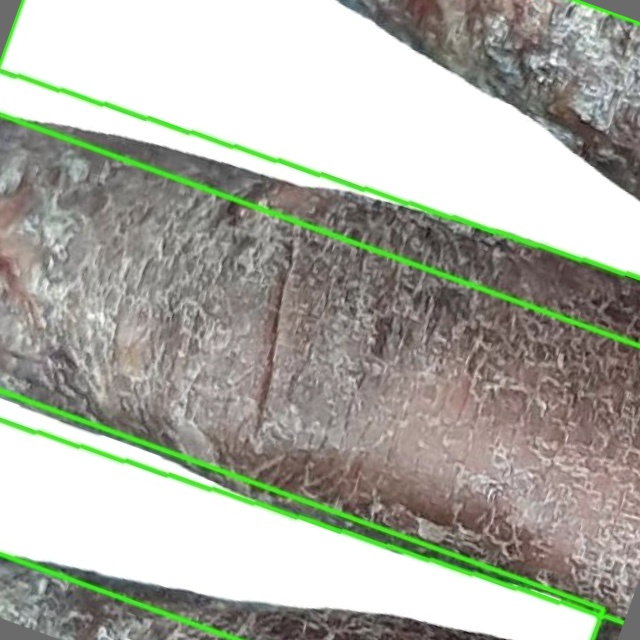Eczema: (0, 70, 639, 622), (0, 0, 639, 346), (0, 391, 603, 639)
